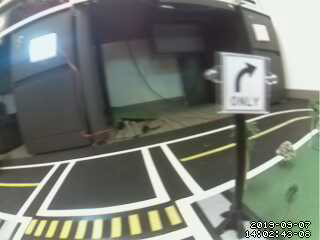Right_only_sign: (222, 55, 268, 112)
